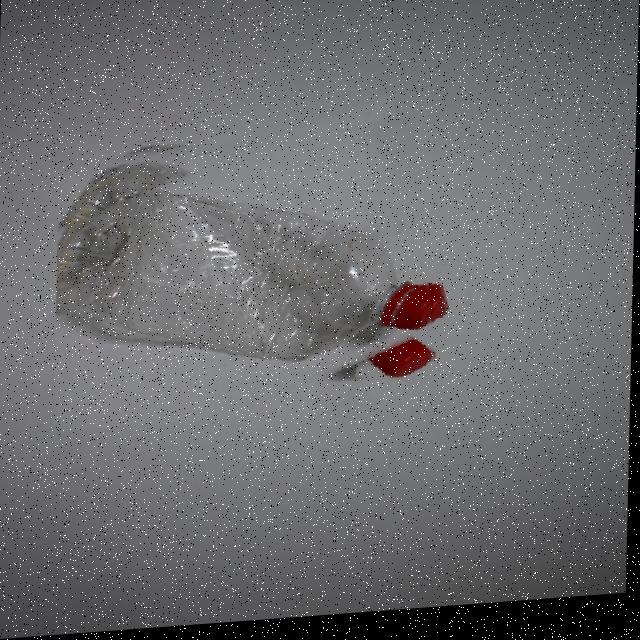plasticbottle: (54, 121, 444, 432)
plasticbottlecap: (363, 324, 455, 394)
